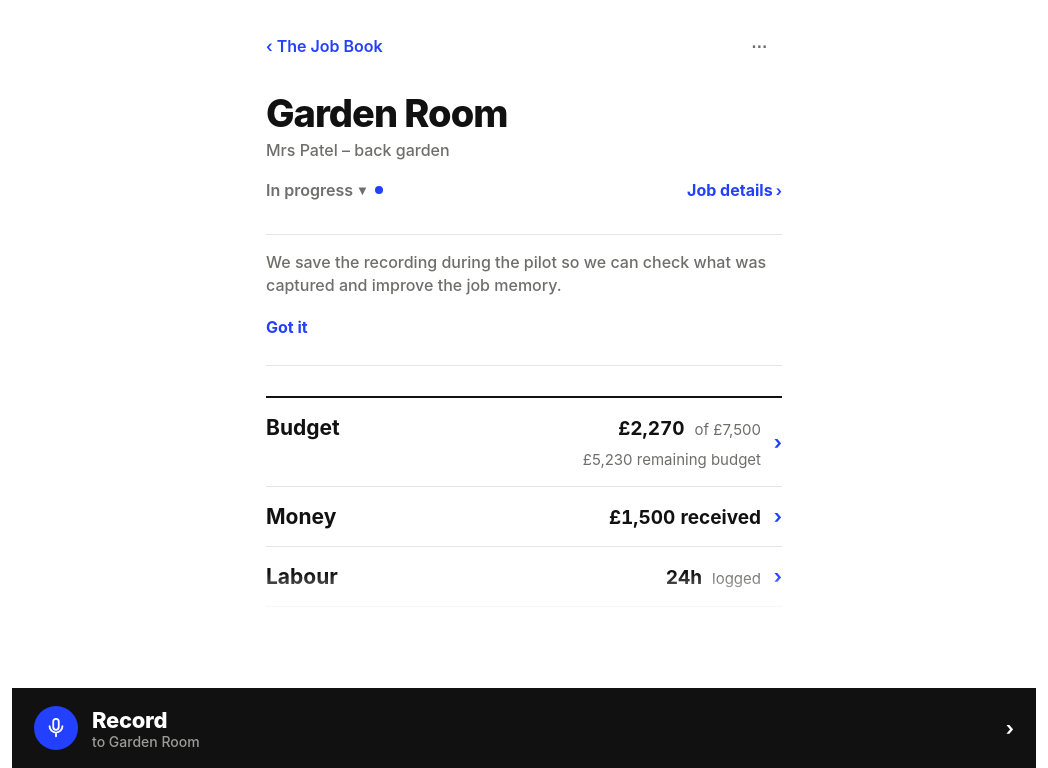
Test case: Workshop across jobs › keeps a bare Workshop row when the workshop is empty, with no zero and no Record
This screenshot has width=1048, height=768.
Step 1. Click the button "‹ The Job Book" → {"x": 324, "y": 46}, box 266,24 -> 383,68
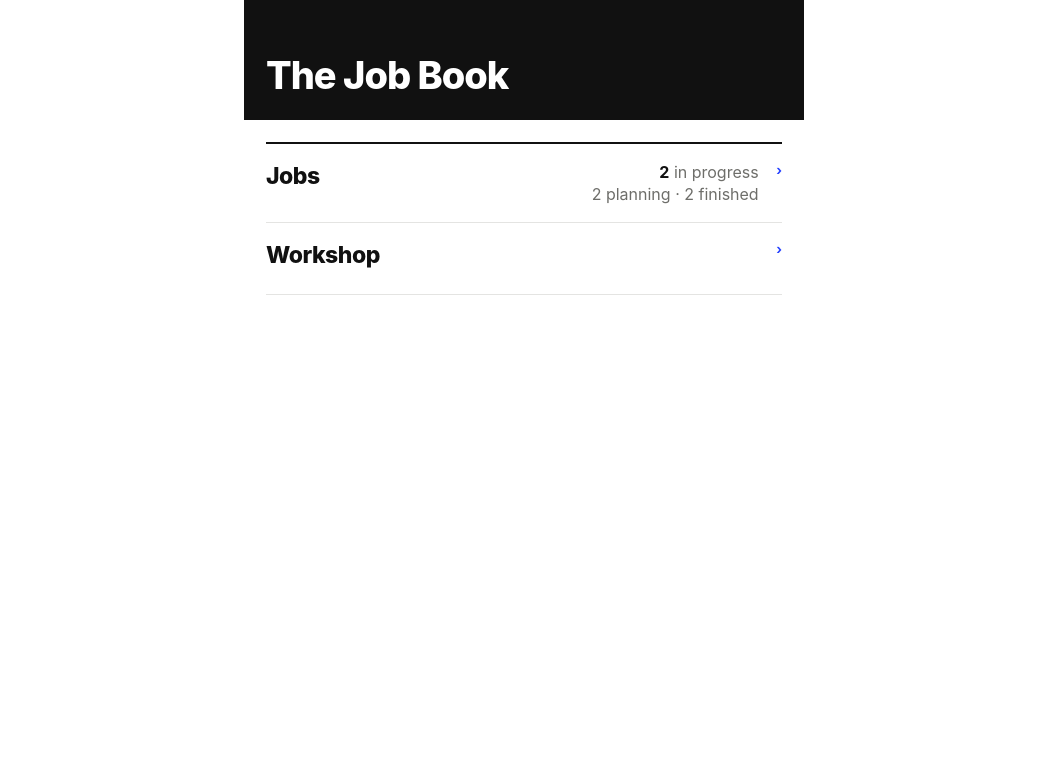
expect the heading "The Job Book" is shown: met, box 266,52 -> 508,98
expect the button "Workshop ›" is shown: met, box 266,223 -> 782,295
expect the text "record" is gone: met
